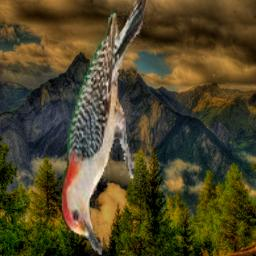Woodpecker: (62, 0, 149, 256)
